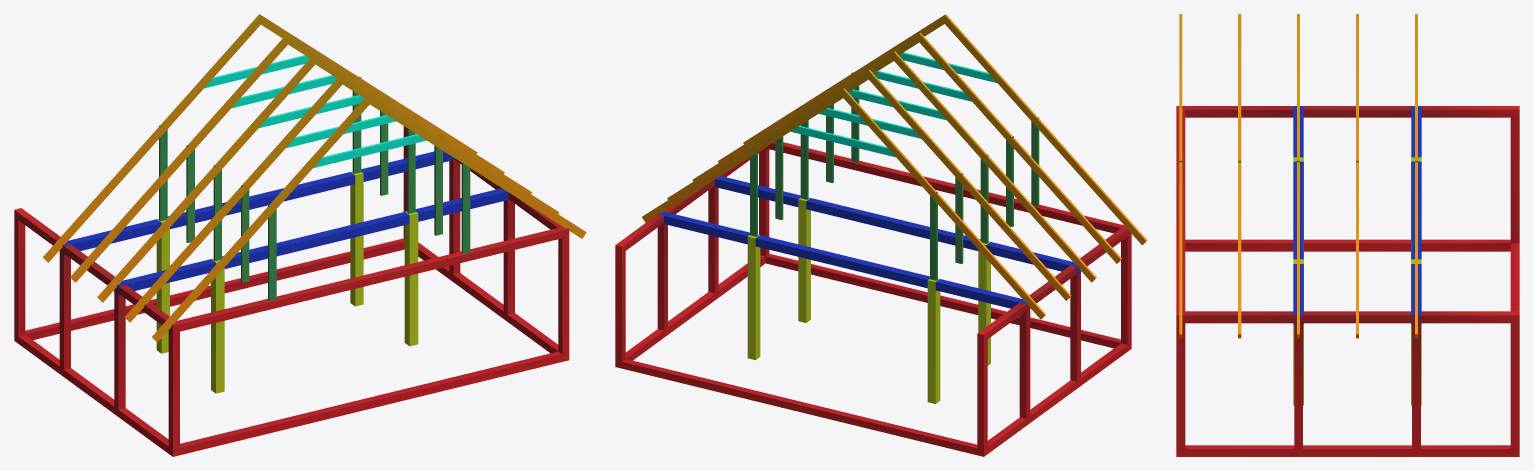
3 renders of one model, left to right at view 1: azimuth 30°, elevation 25°; view 2: azimuth 150°, elevation 25°; view 3: azimuth 270°, elevation 25°, orthographic. The views are drawn at different scales.
Visible parts, largest first — view 1: side_rail, crossbeam.001, crossbeam.002, rafter.007, rafter.008, rafter.010, rafter.006, rafter.009, rafter.001, interior_post.002, interior_post.001, interior_post.004 (+14 smaller); view 2: side_rail, crossbeam.002, crossbeam.001, rafter.006, rafter.007, rafter.009, rafter.010, rafter.008, rafter.005, interior_post.003, interior_post.004, interior_post.002 (+13 smaller); view 3: side_rail, crossbeam.002, crossbeam.001, rafter.001, rafter.002, rafter.003, rafter.004, rafter.005.
Part boxes in pixels (x1,y1,x2,y2): side_rail: (14, 126, 569, 456); crossbeam.001: (114, 188, 508, 294); crossbeam.002: (63, 151, 454, 254); rafter.007: (124, 74, 342, 322); rafter.008: (97, 54, 315, 302); rafter.010: (42, 14, 260, 262); rafter.006: (152, 94, 369, 342); rafter.009: (70, 34, 287, 282); rafter.001: (370, 95, 586, 238); interior_post.002: (404, 211, 418, 346); interior_post.001: (211, 258, 224, 393); interior_post.004: (350, 171, 363, 306); side_rail: (615, 141, 1131, 456); crossbeam.002: (658, 211, 1030, 312); crossbeam.001: (714, 176, 1081, 275); rafter.006: (944, 14, 1147, 245); rafter.007: (919, 32, 1121, 263); rafter.009: (868, 70, 1071, 300); rafter.010: (843, 88, 1045, 319); rafter.008: (894, 51, 1096, 282); rafter.005: (642, 89, 843, 222); interior_post.003: (927, 278, 940, 403); interior_post.004: (747, 234, 760, 359); interior_post.002: (798, 197, 810, 322); side_rail: (1176, 106, 1519, 456); crossbeam.002: (1411, 106, 1421, 324); crossbeam.001: (1293, 106, 1303, 324); rafter.001: (1179, 14, 1182, 338); rafter.002: (1238, 14, 1241, 338); rafter.003: (1297, 14, 1299, 338); rafter.004: (1356, 14, 1358, 338); rafter.005: (1415, 14, 1417, 338).
Size of the model in its own units: 2.5 by 1.72 by 1.58.
